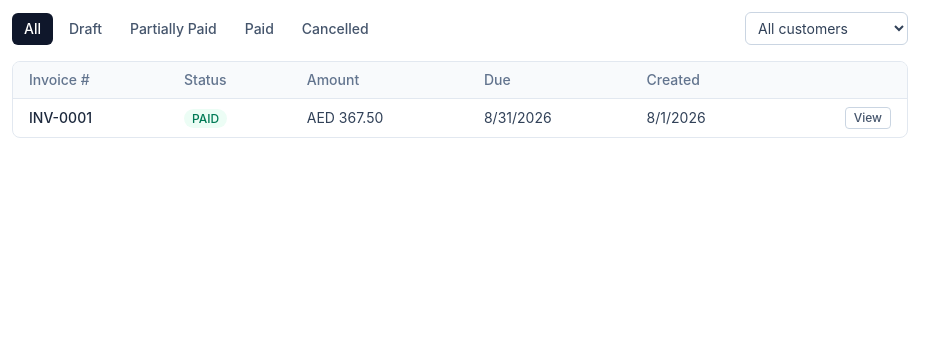
InvoicesPage - detail panel › hides Record Payment once the invoice is fully paid
expect the text "INV-0001" is shown: met, box 29,109 -> 92,126
Click the button "View": (868, 118) 845,107 -> 891,129
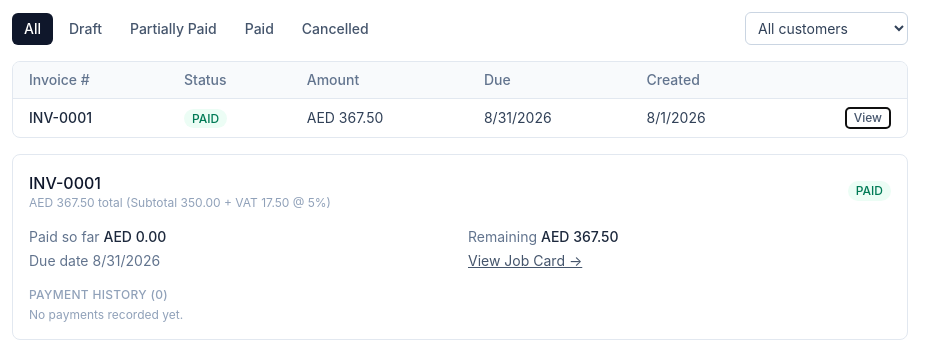
expect the text "Paid so far AED 0.00" is shown: met, box 29,228 -> 166,245
